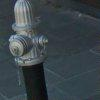Hydrant: (7, 2, 61, 100)
